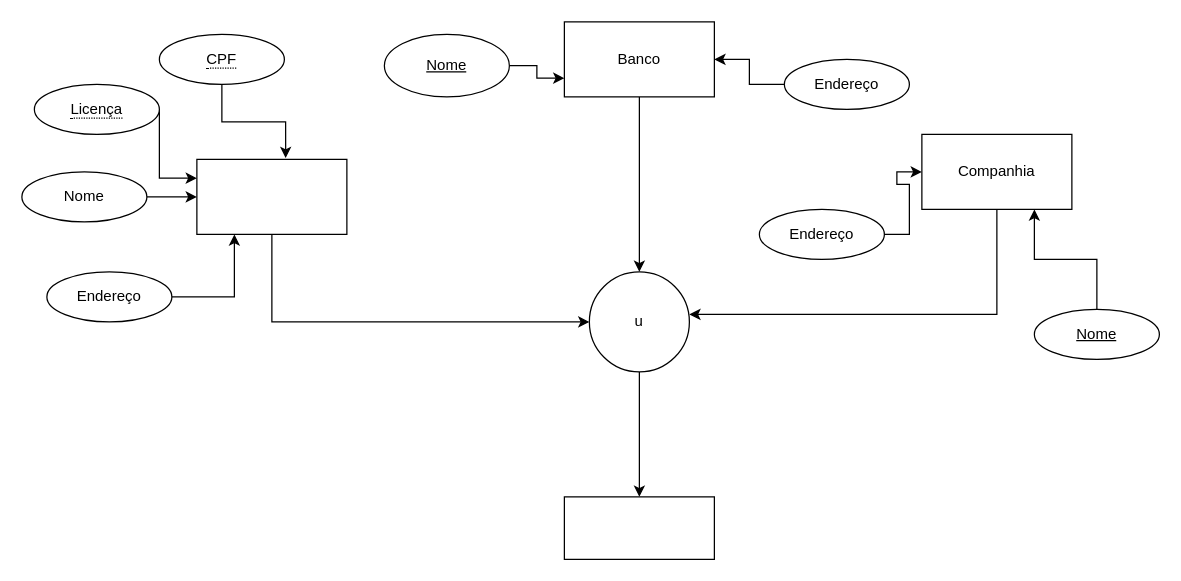
Image size: 1181x581. Some labels were removed from this diagram. The centre of each missing label's shape, as x and y in pixels:
"Dono" belongs at pixel 638 527.
"Pessoa" belongs at pixel 271 196.
